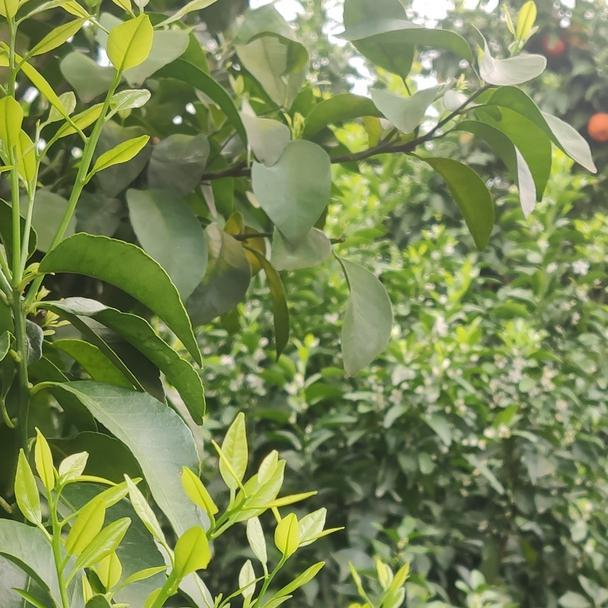shoot: (43, 2, 187, 232), (138, 426, 315, 604), (11, 437, 134, 594)
